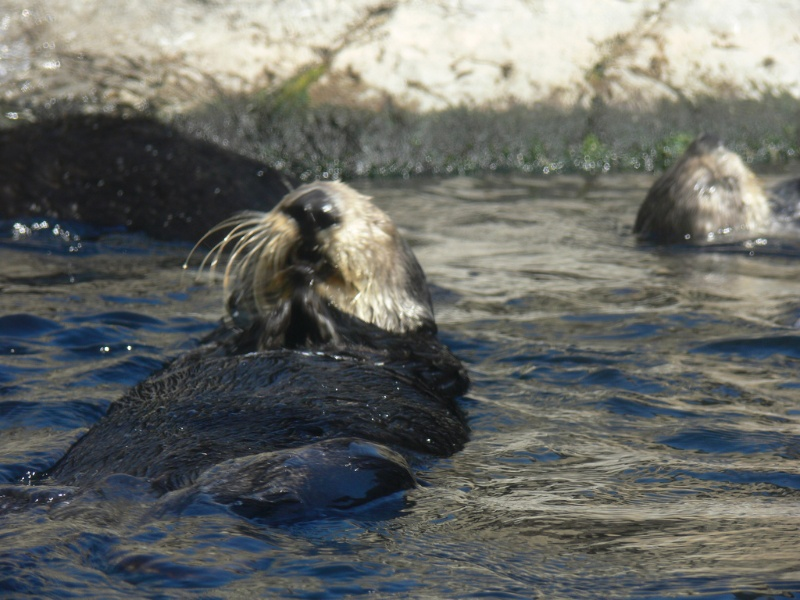minkish: (26, 173, 488, 570), (620, 135, 800, 258)
